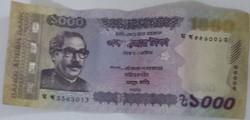1000 taka: (18, 6, 244, 115)
